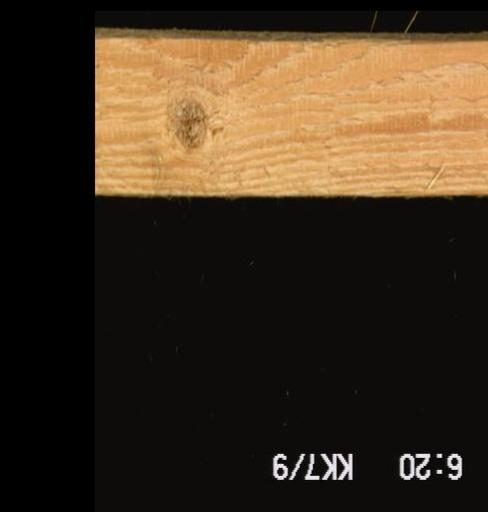sound_knot: (160, 89, 213, 158)
